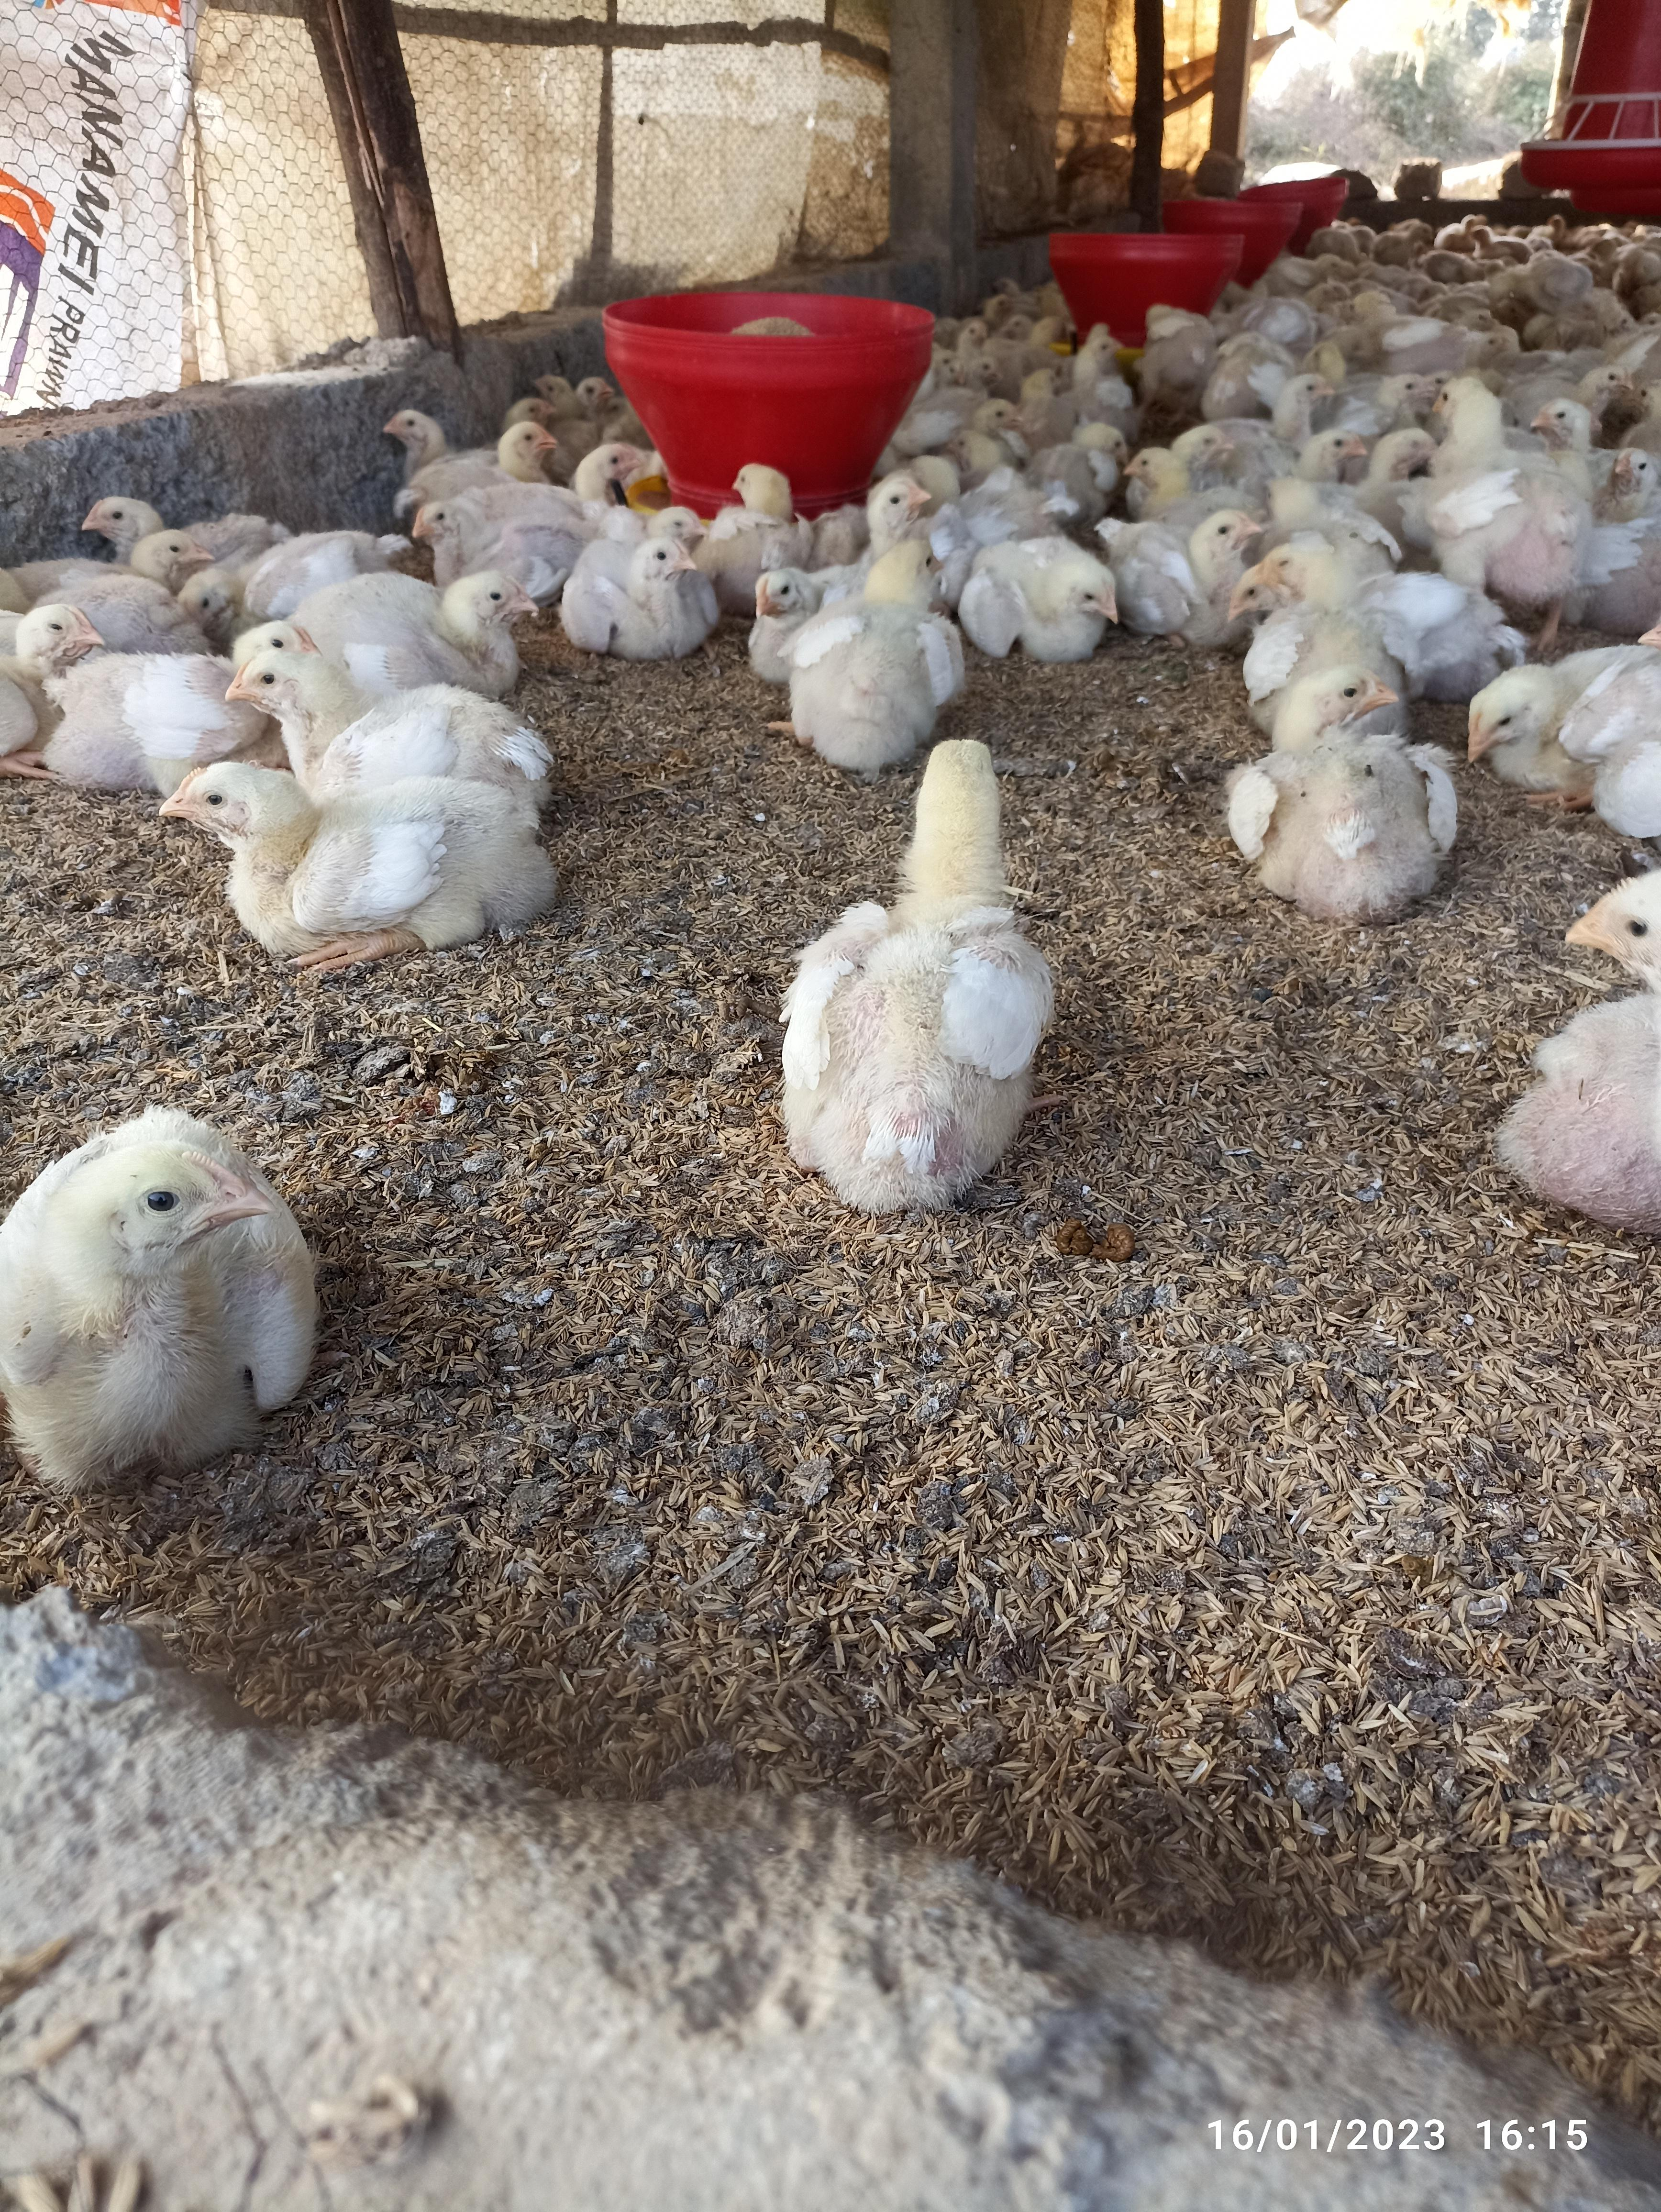Pollos: (789, 738, 1047, 1214), (16, 1106, 326, 1493), (161, 752, 565, 954), (1220, 665, 1459, 911), (229, 625, 548, 782), (1401, 377, 1603, 581), (804, 539, 967, 762), (1462, 644, 1661, 802), (12, 600, 143, 776), (82, 481, 288, 590), (345, 563, 518, 687), (1118, 502, 1281, 630), (967, 527, 1118, 654), (565, 532, 707, 654), (414, 488, 576, 567)
